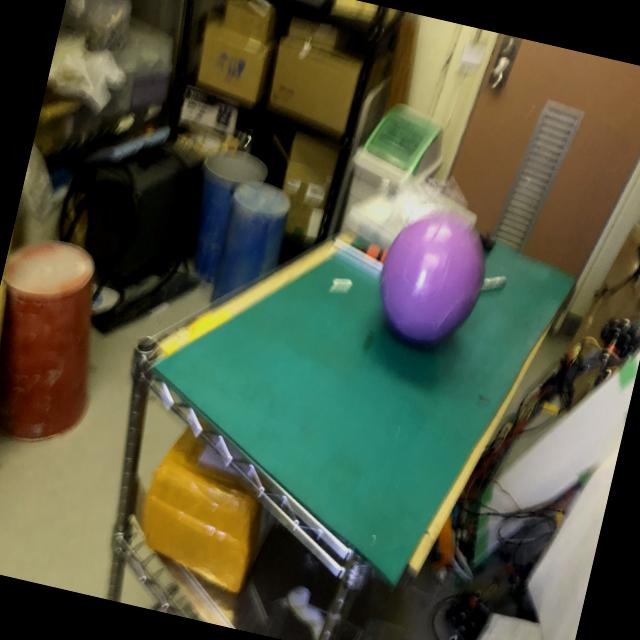purple_ball: (370, 202, 496, 352)
